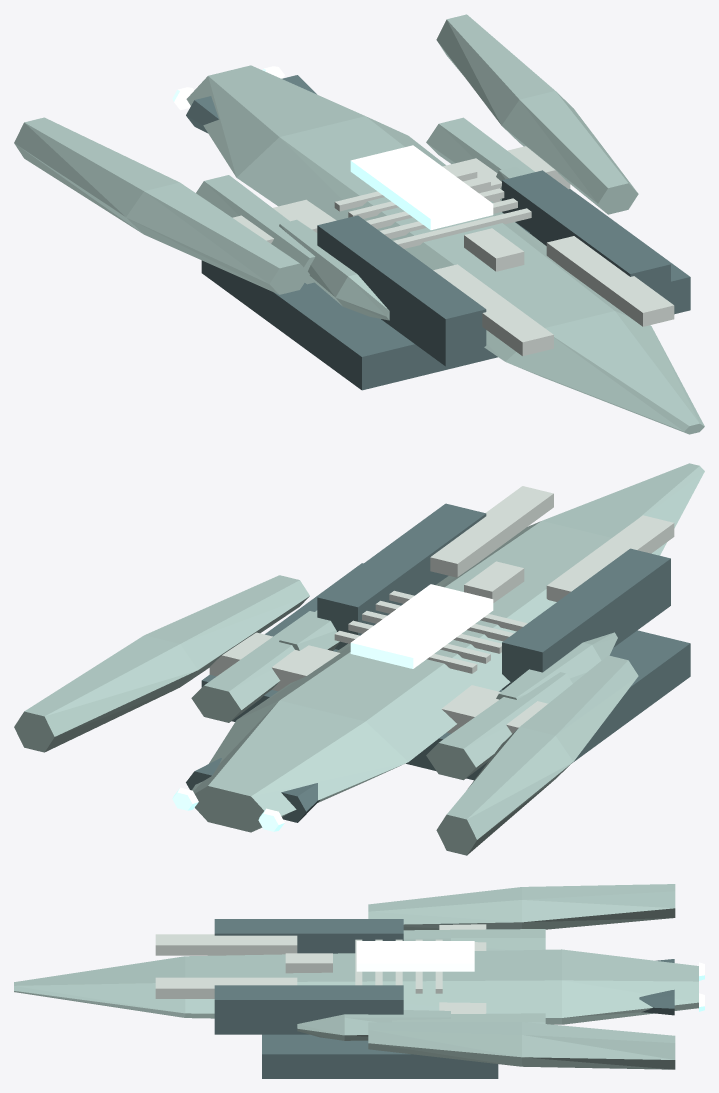
3 renders of one model, top to bottom at view 1: azimuth 30°, elevation 25°; view 2: azimuth 150°, elevation 25°; view 3: azimuth 270°, elevation 25°, orthographic. The views are drawn at different scales.
Size of the model in its own units: 6.33 by 1.2 by 11.12.
